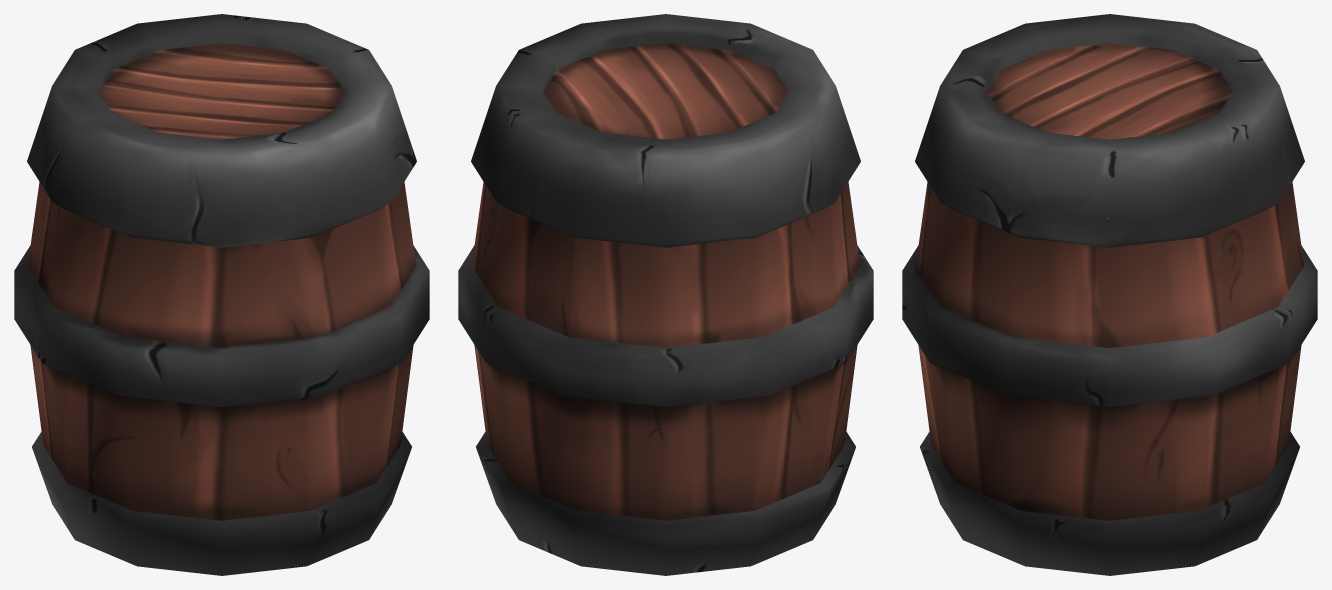
File: Barrel.fbx
The picture shows the model from 3 angles, left to right: view 1: azimuth 30°, elevation 25°; view 2: azimuth 150°, elevation 25°; view 3: azimuth 270°, elevation 25°; orthographic projection.
Visible parts, largest first — view 1: Barrel; view 2: Barrel; view 3: Barrel.
Part boxes in pixels (x1,y1,x2,y2): Barrel: [14, 14, 429, 575]; Barrel: [458, 14, 873, 575]; Barrel: [902, 14, 1317, 575].
Size of the model in its own units: 150 by 167 by 150.
